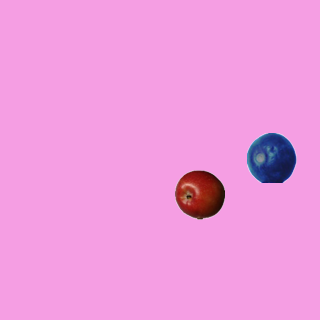Apple Braeburn: (174, 169, 224, 219)
Huckleberry: (246, 132, 296, 182)
